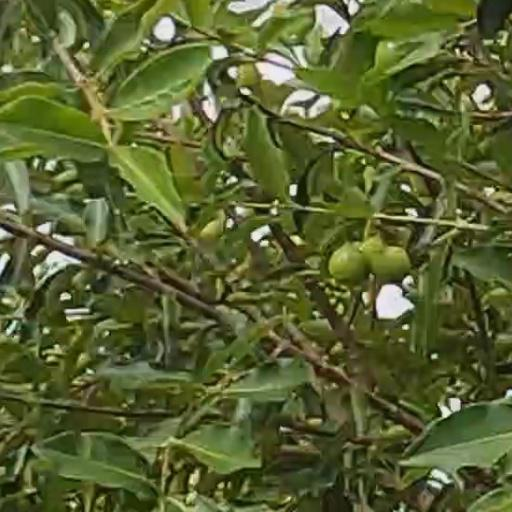acerola: (371, 247, 411, 282), (328, 243, 365, 278)
